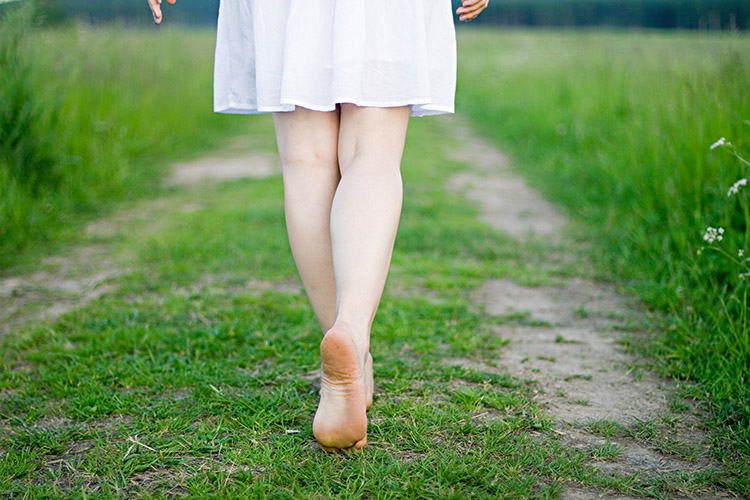Humano: (141, 1, 497, 460)
